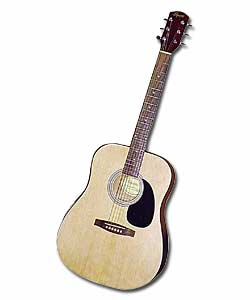guitar: (56, 10, 192, 293)
